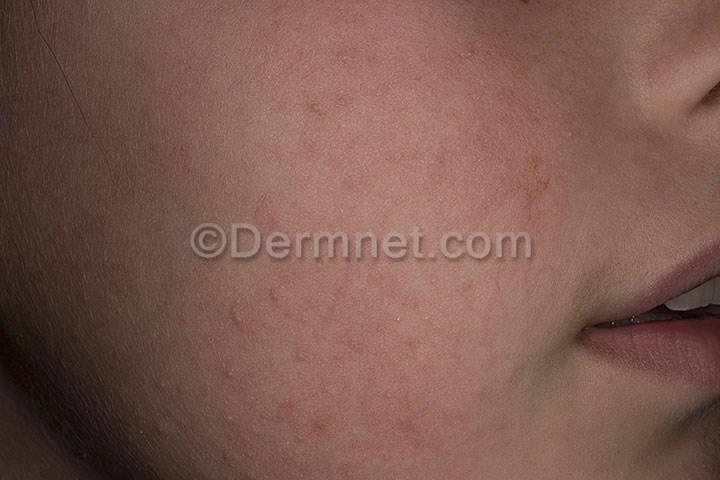edema 1: (146, 42, 478, 478)
